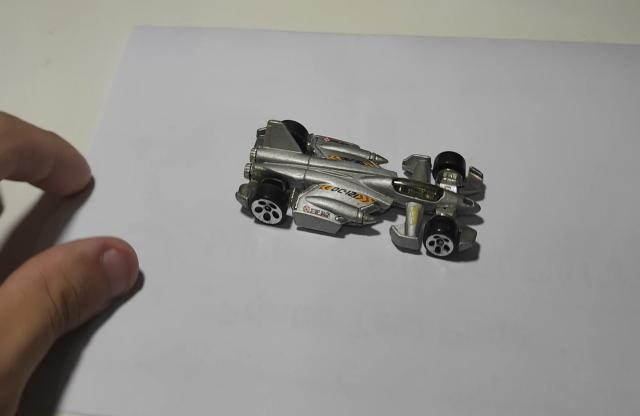05_DC121: (235, 117, 486, 264)
